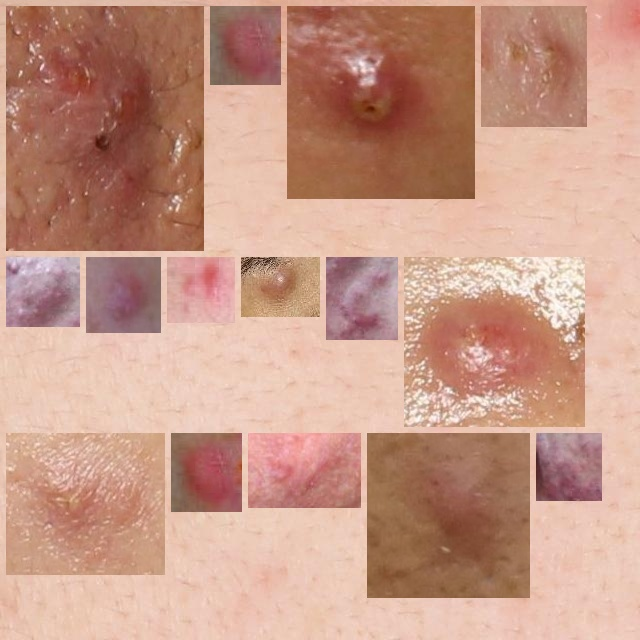nodule: (14, 14, 196, 243), (295, 14, 467, 191), (412, 265, 577, 419), (375, 441, 522, 590), (14, 441, 157, 567), (489, 14, 579, 119), (256, 441, 353, 500), (334, 265, 390, 332), (94, 265, 153, 325), (218, 14, 273, 77), (179, 441, 234, 504), (14, 265, 72, 319), (249, 265, 312, 309), (175, 265, 227, 315), (544, 441, 594, 493)
